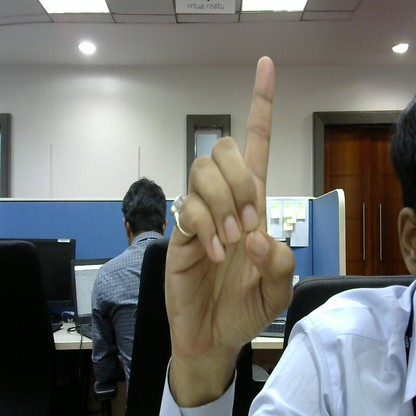d: (168, 47, 295, 357)
